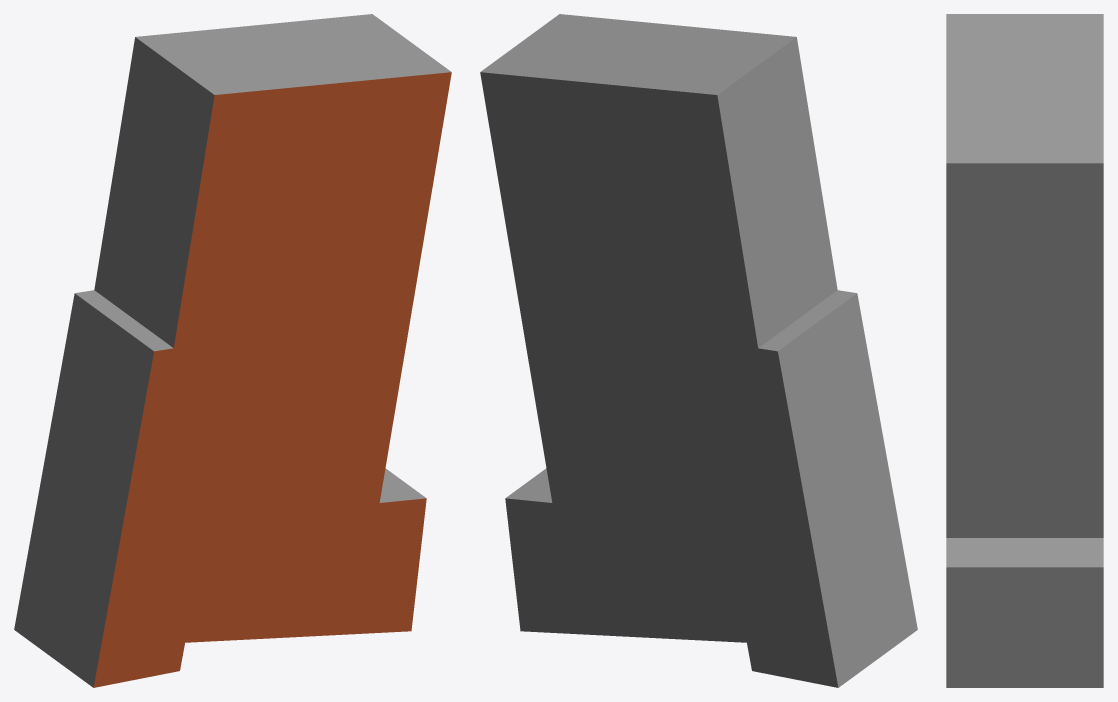
The model's file is construction_3534_assumed_A_Casa_h6m.obj.
3 renders of one model, left to right at view 1: azimuth 30°, elevation 25°; view 2: azimuth 150°, elevation 25°; view 3: azimuth 270°, elevation 25°, orthographic.
Visible parts, largest first — view 1: construction_3534_assumed_A_Casa; view 2: construction_3534_assumed_A_Casa; view 3: construction_3534_assumed_A_Casa.
Part boxes in pixels (left/top/right/bottom): construction_3534_assumed_A_Casa: left=14, top=14, right=451, bottom=687; construction_3534_assumed_A_Casa: left=480, top=14, right=917, bottom=687; construction_3534_assumed_A_Casa: left=946, top=14, right=1103, bottom=687.
Bounding box in the file's own units: 15.62 × 24.33 × 6.
